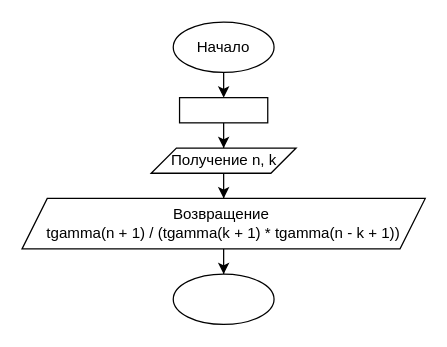
Image size: 447x347. Some labels were removed from this diagram. Here are the shapes that lost their labels. From the top down, the centre of each, then its label:
At (x=223, y=109): "Целое n, k".
At (x=223, y=298): "Конец".
